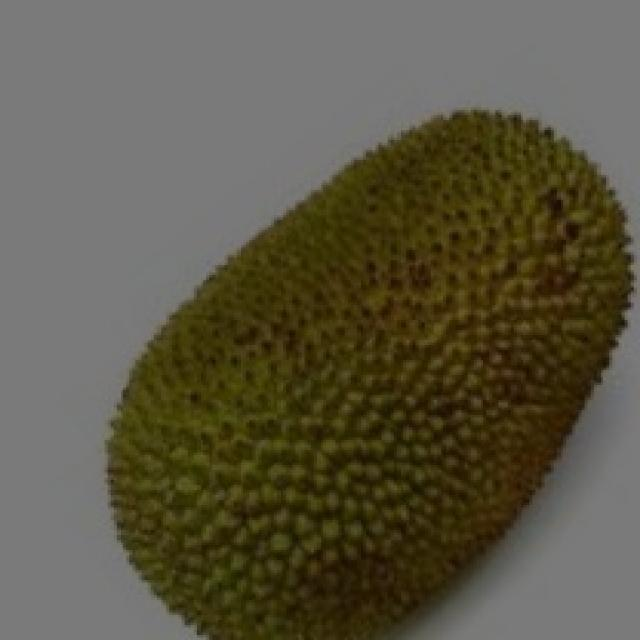Fruit: (62, 210, 480, 638), (261, 252, 637, 638), (209, 85, 640, 375)
